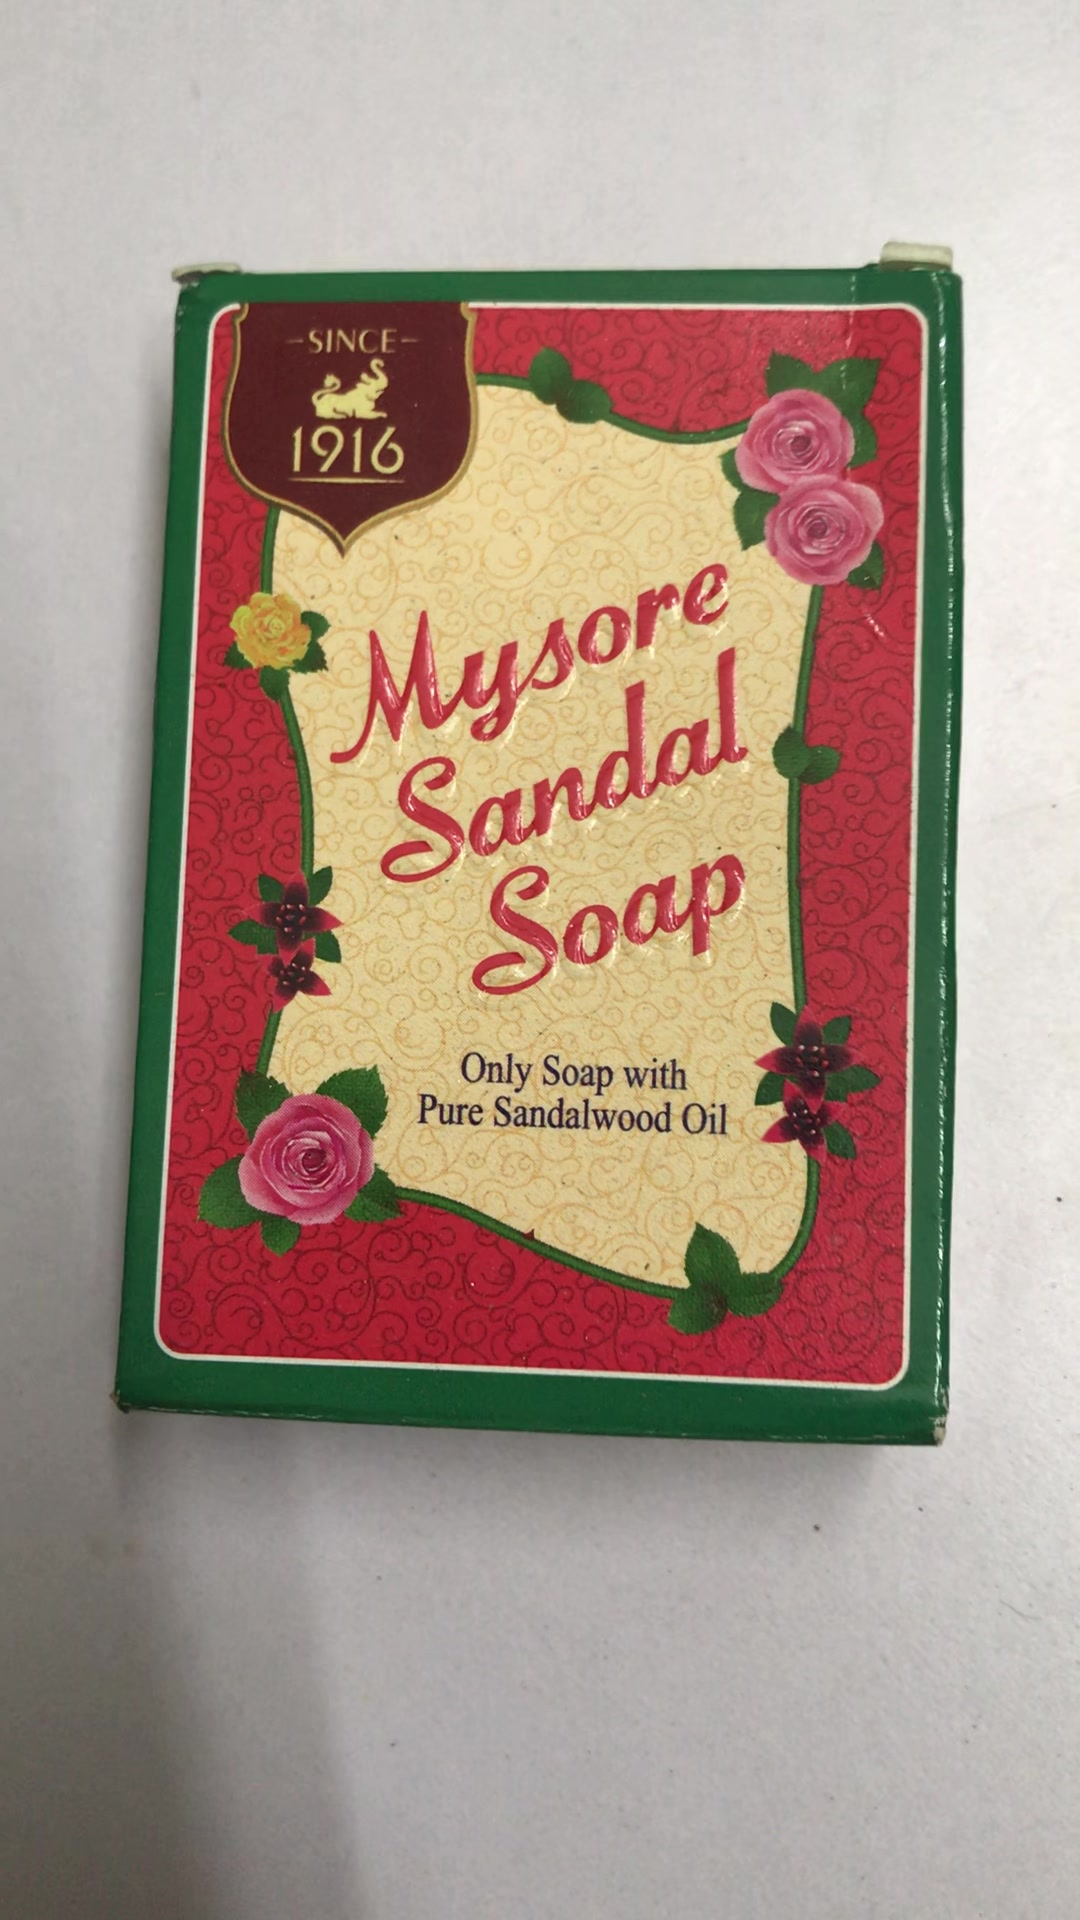mysore sandal soap: (113, 265, 957, 1436)
